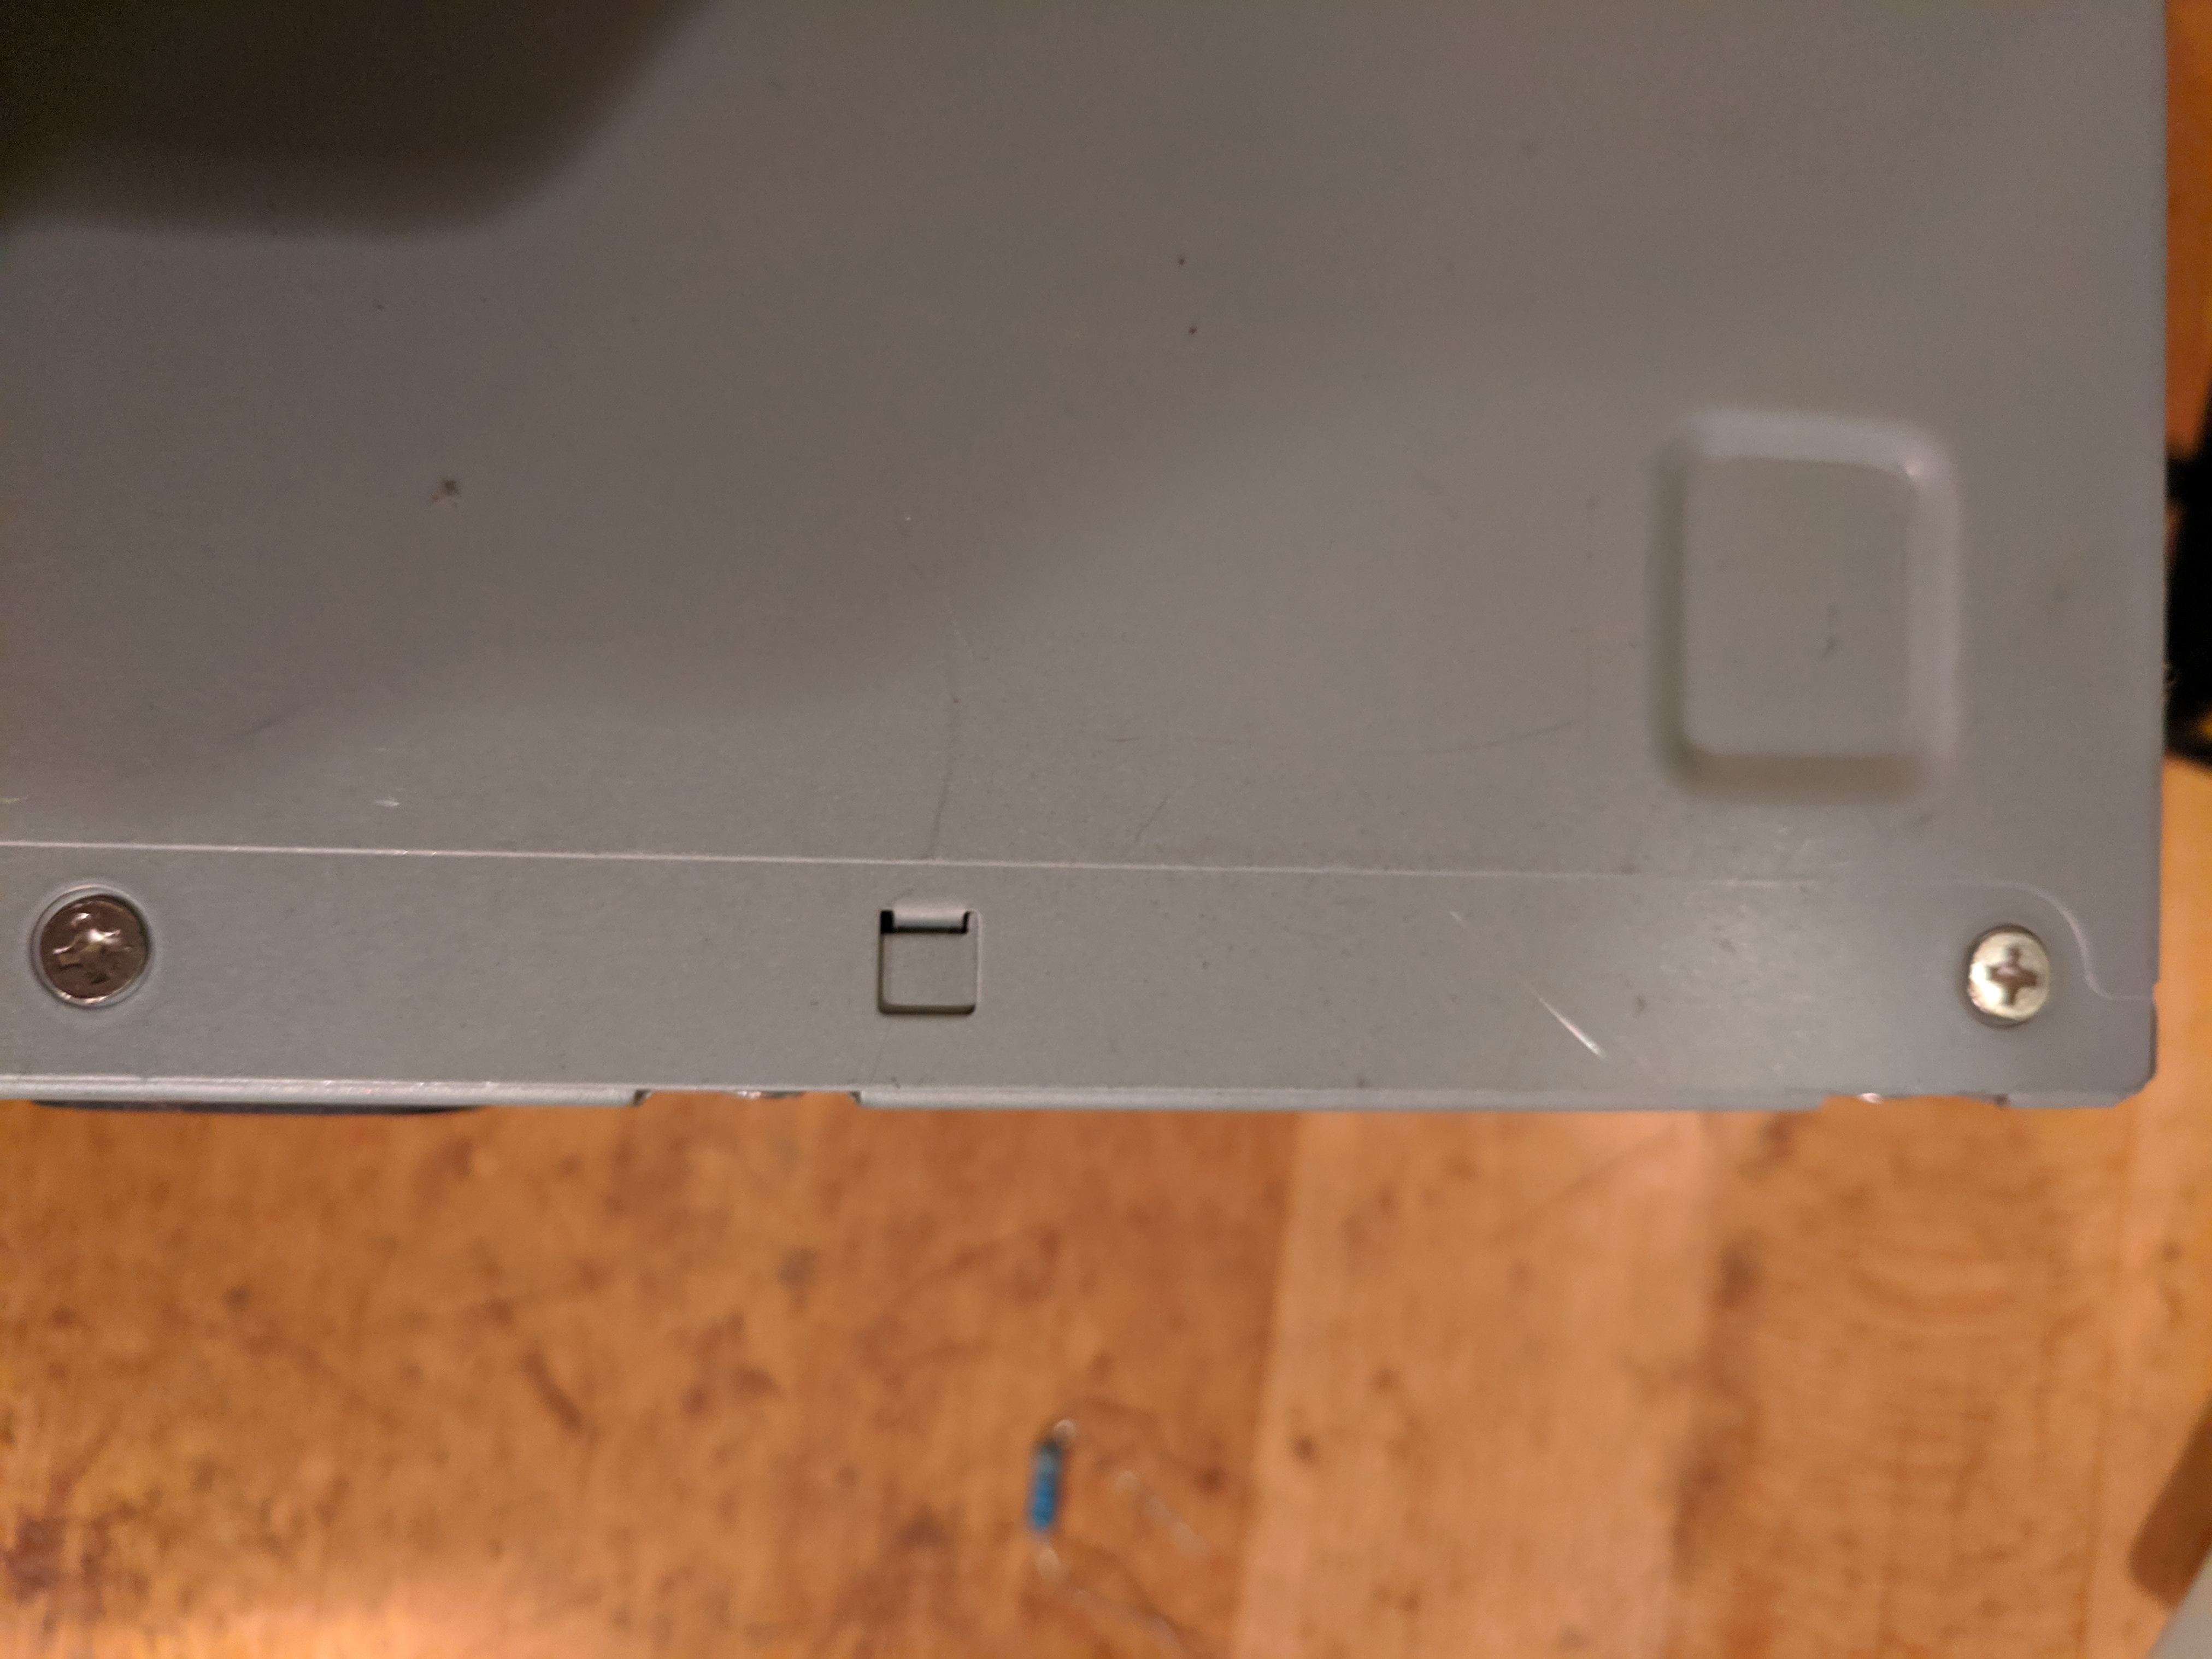cross_recessed_screw: (23, 884, 153, 1006), (1959, 918, 2057, 1028)
